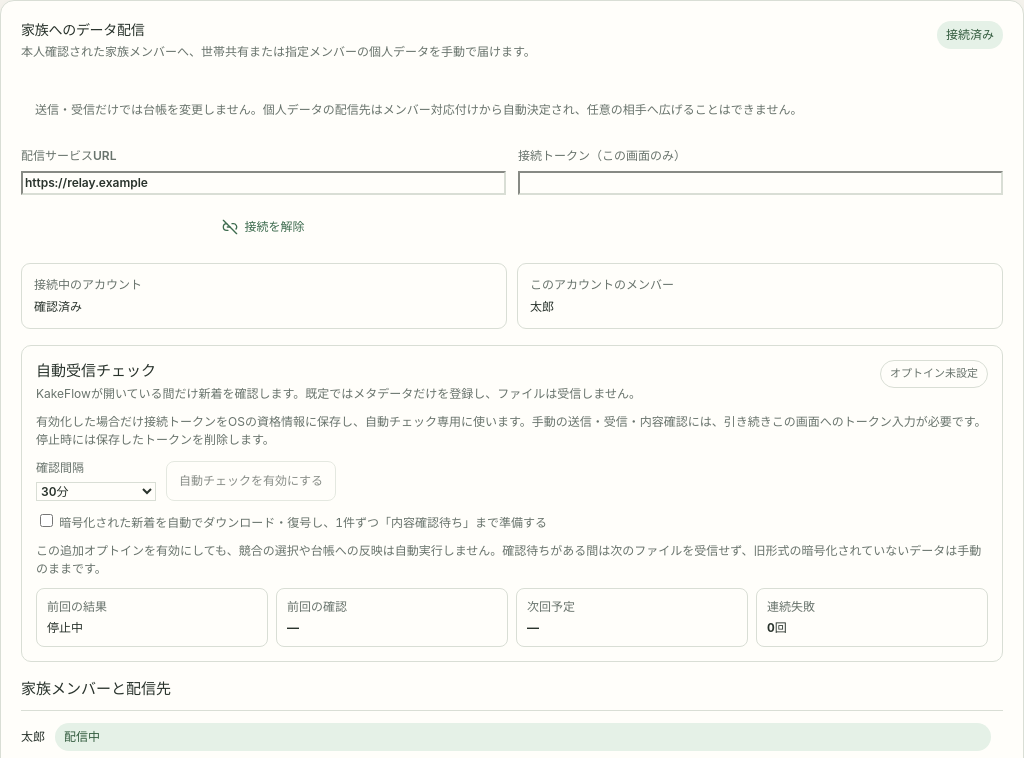
Test: FamilyDeliveryPanel › requires a separate explicit opt-in before encrypted artifacts are prepared
Expected: the text "競合の選択や台帳への反映は自動実行しません" is shown, [36,543,981,576]
Click the checkbox labelled "暗号化された新着を自動でダウンロード・復号し、1件ずつ「内容確認待ち」まで準備する" at {"x": 46, "y": 520}, box [40,514,53,527]
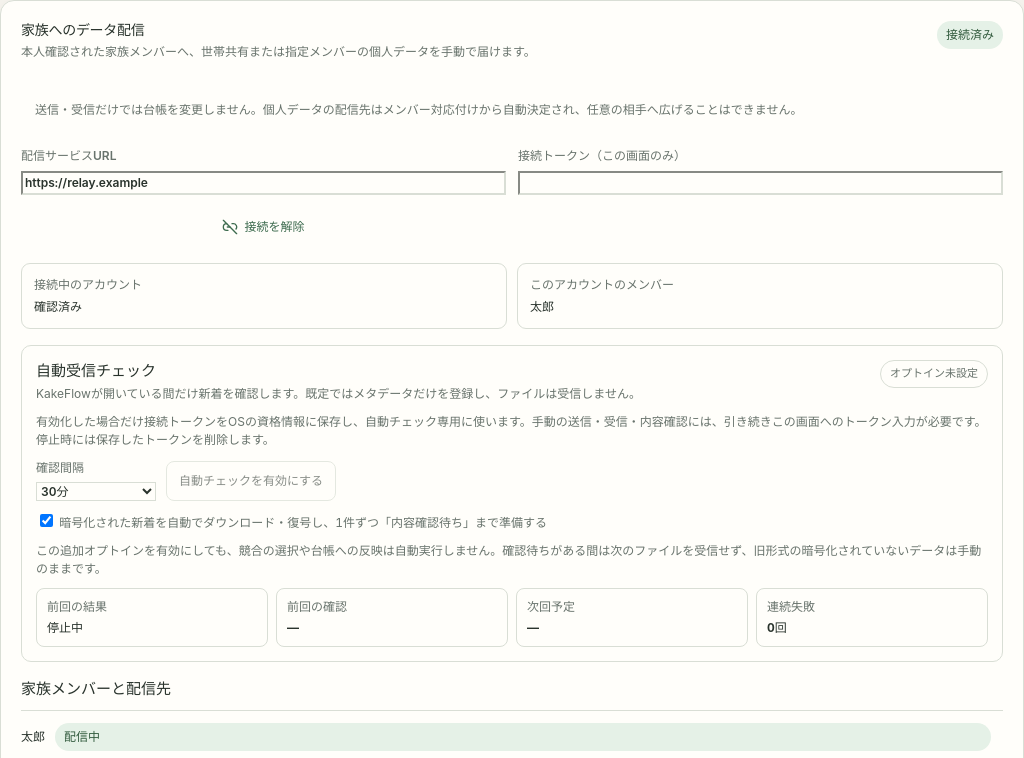
Type "session-secret" into the password field labelled "接続トークン（この画面のみ）" at {"x": 760, "y": 183}, box [518,171,1003,195]
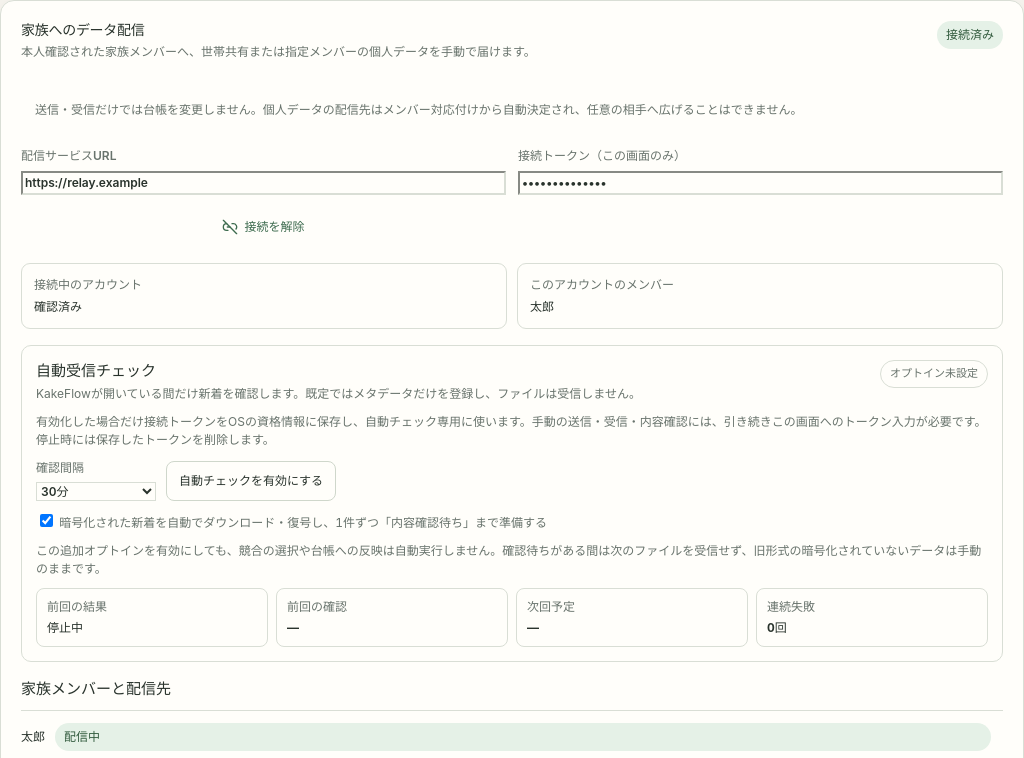
Click the button "自動チェックを有効にする" at {"x": 251, "y": 481}, box [166,461,336,501]
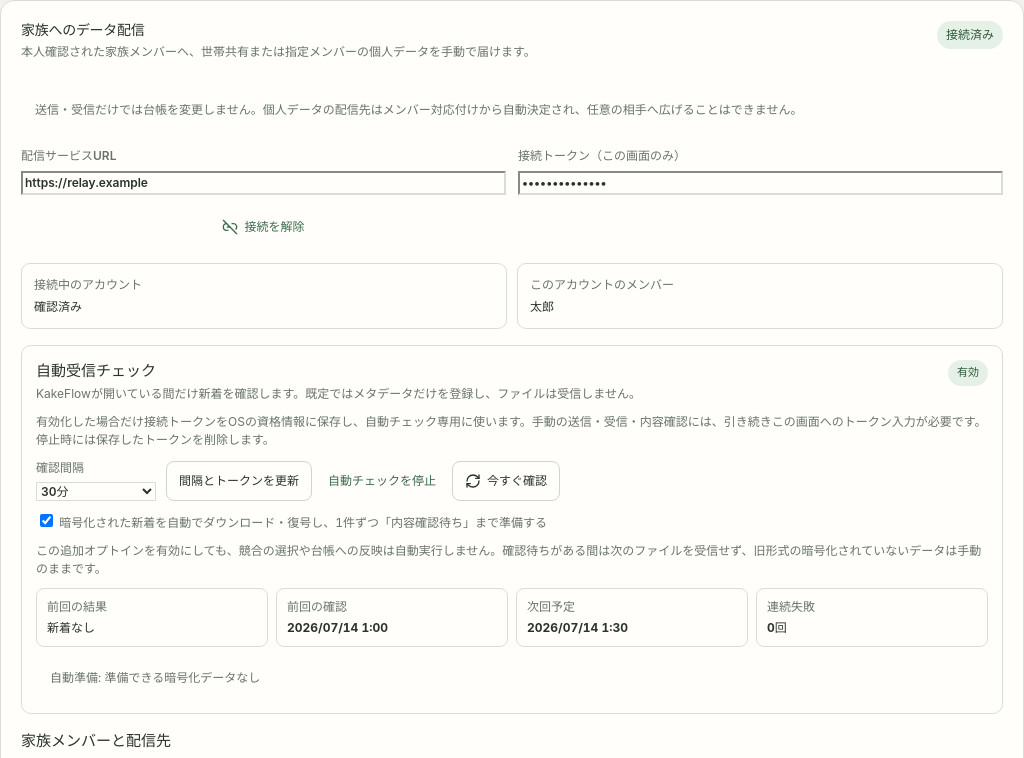
Expected: the text "自動準備: 準備できる暗号化データなし" is shown, [50,670,260,685]
